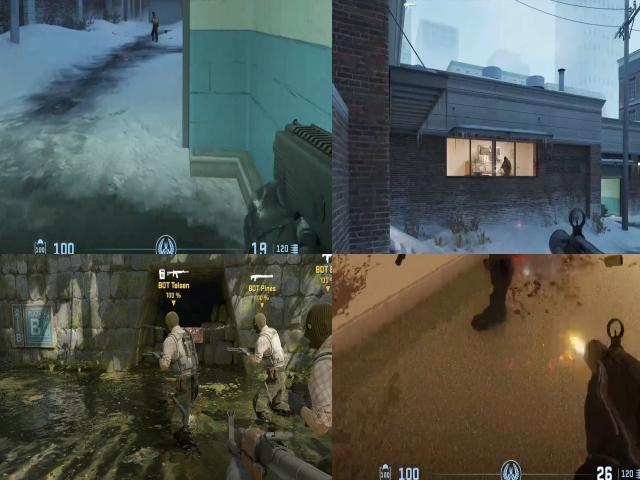Bomb: (180, 333, 195, 358)
CT: (502, 156, 512, 174)
CT-Head: (502, 156, 510, 166)
T: (286, 294, 332, 480), (161, 307, 201, 438), (248, 310, 288, 436), (150, 11, 160, 32)
T-Head: (300, 300, 332, 356), (159, 308, 185, 339), (248, 310, 272, 341), (150, 12, 158, 20)
